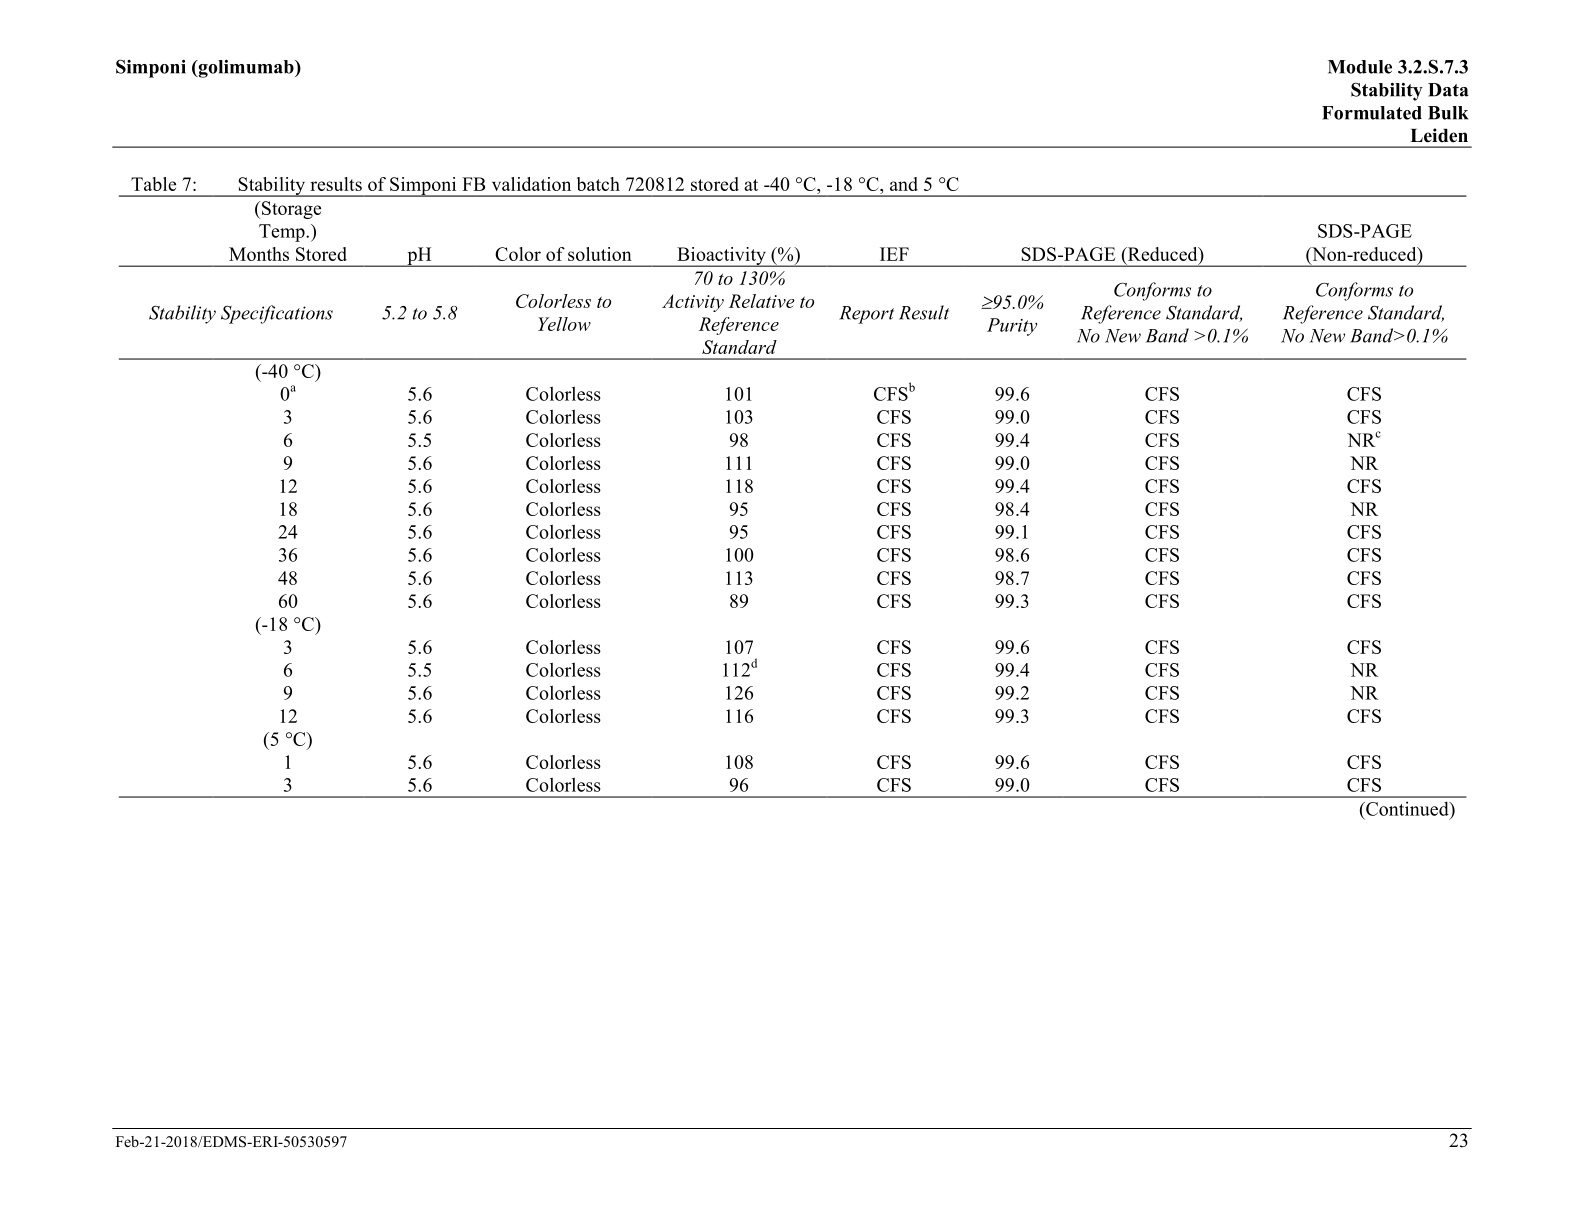partial_lined: (118, 195, 1470, 800)
